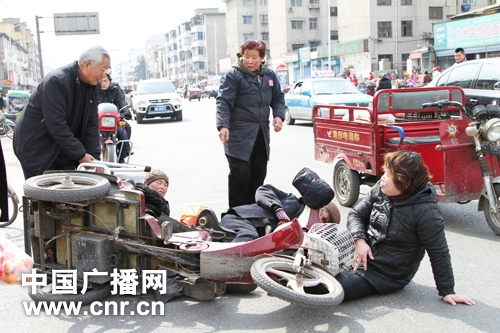falling: (295, 140, 481, 321)
